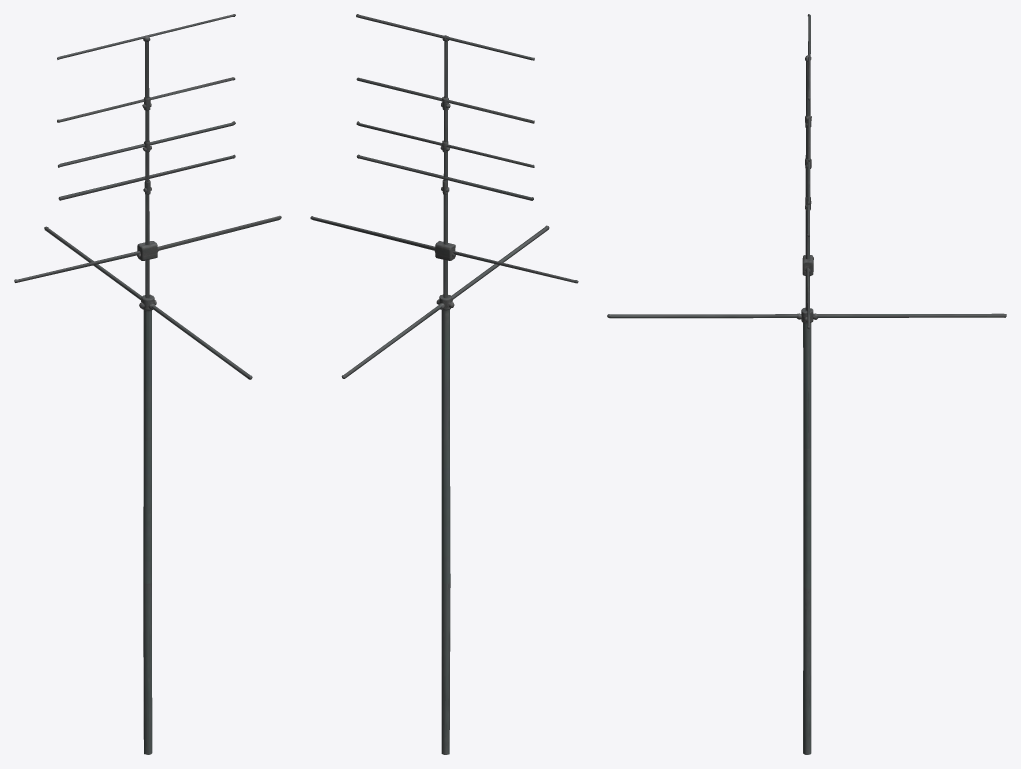
File: roof-antenna.glb
The picture shows the model from 3 angles, left to right: view 1: azimuth 30°, elevation 25°; view 2: azimuth 150°, elevation 25°; view 3: azimuth 270°, elevation 25°; orthographic projection. The views are drawn at different scales.
Bounding box in the file's own units: 0.3904 × 1 × 0.5199.
Materials: 1 (1 with a texture image).
